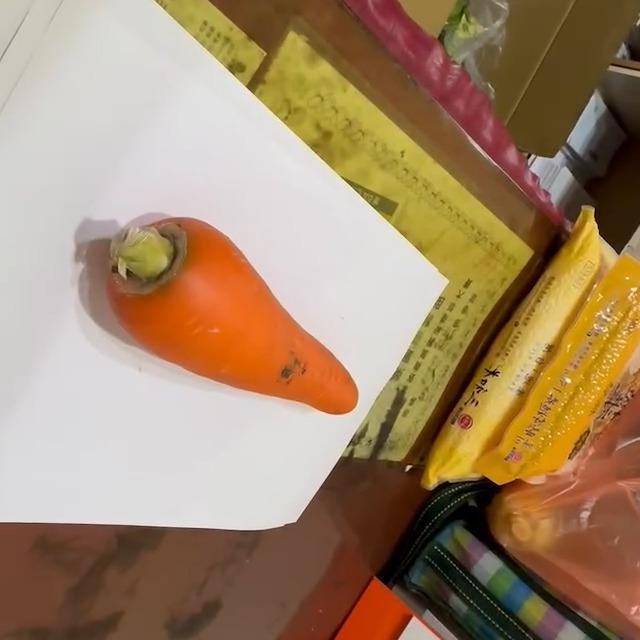carrot: (104, 216, 362, 419)
